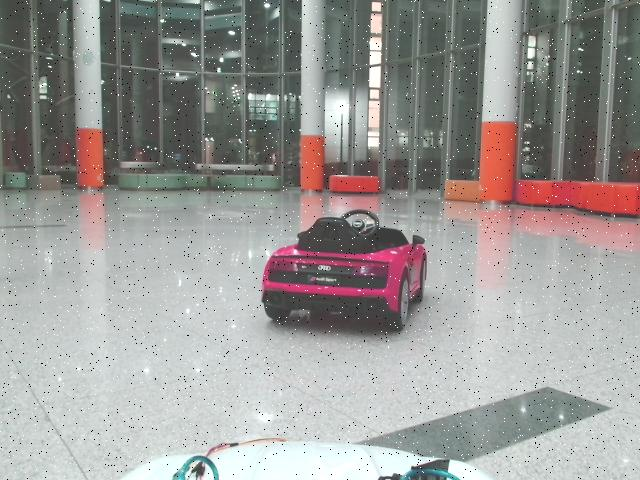car: (260, 208, 428, 329)
